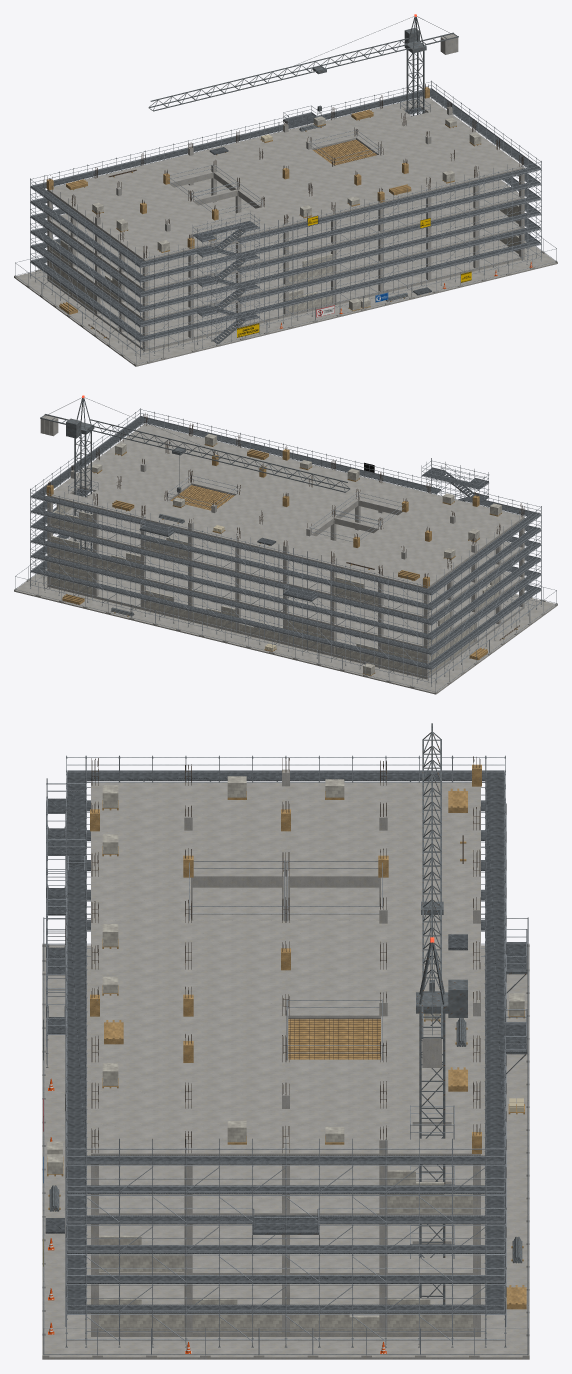
The model's file is edificio_construccion_60x30_lod0.glb.
3 renders of one model, top to bottom at view 1: azimuth 30°, elevation 25°; view 2: azimuth 150°, elevation 25°; view 3: azimuth 270°, elevation 25°, orthographic. The views are drawn at different scales.
Parts seen in each view (by area): view 1: MAT_Concrete, MAT_Galvanized_Steel, MAT_Metal_Grating, MAT_Aged_Steel, MAT_Concrete_Block, MAT_Formwork_Wood, MAT_Exposed_Rebar; view 2: MAT_Concrete, MAT_Galvanized_Steel, MAT_Metal_Grating, MAT_Concrete_Block, MAT_Aged_Steel, MAT_Formwork_Wood, MAT_Exposed_Rebar; view 3: MAT_Concrete, MAT_Metal_Grating, MAT_Galvanized_Steel, MAT_Concrete_Block, MAT_Aged_Steel, MAT_Formwork_Wood, MAT_Exposed_Rebar.
Part boxes in pixels (<box>): MAT_Concrete: <box>14,34,557,366</box>; MAT_Galvanized_Steel: <box>15,80,556,364</box>; MAT_Metal_Grating: <box>31,89,541,343</box>; MAT_Aged_Steel: <box>30,16,541,358</box>; MAT_Concrete_Block: <box>49,116,518,313</box>; MAT_Formwork_Wood: <box>46,87,481,338</box>; MAT_Exposed_Rebar: <box>47,84,523,339</box>; MAT_Concrete: <box>14,415,557,694</box>; MAT_Galvanized_Steel: <box>15,408,556,691</box>; MAT_Metal_Grating: <box>31,417,540,669</box>; MAT_Concrete_Block: <box>51,434,501,675</box>; MAT_Aged_Steel: <box>30,397,541,686</box>; MAT_Formwork_Wood: <box>46,443,517,675</box>; MAT_Exposed_Rebar: <box>48,413,524,640</box>; MAT_Concrete: <box>42,769,529,1359</box>; MAT_Metal_Grating: <box>45,772,527,1313</box>; MAT_Galvanized_Steel: <box>43,755,528,1355</box>; MAT_Concrete_Block: <box>47,776,524,1331</box>; MAT_Aged_Steel: <box>46,723,527,1347</box>; MAT_Formwork_Wood: <box>47,764,526,1309</box>; MAT_Exposed_Rebar: <box>91,756,480,1152</box>.
Size of the model in its own units: 60 by 25.65 by 30.
Materials: 17 (15 with a texture image).
